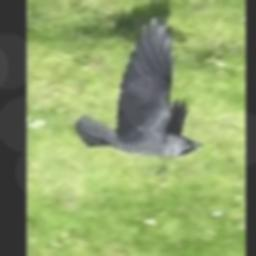Crow: (74, 16, 204, 159)
